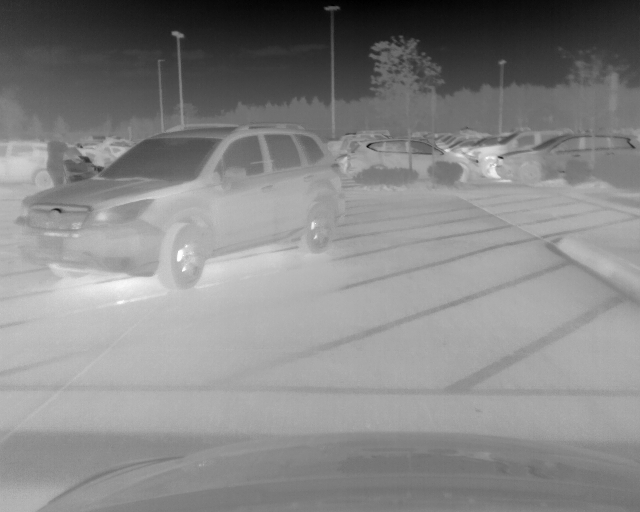car: (15, 122, 347, 287), (494, 131, 640, 187), (351, 138, 478, 185), (466, 128, 575, 178), (2, 140, 50, 187)
people: (44, 132, 80, 187)
